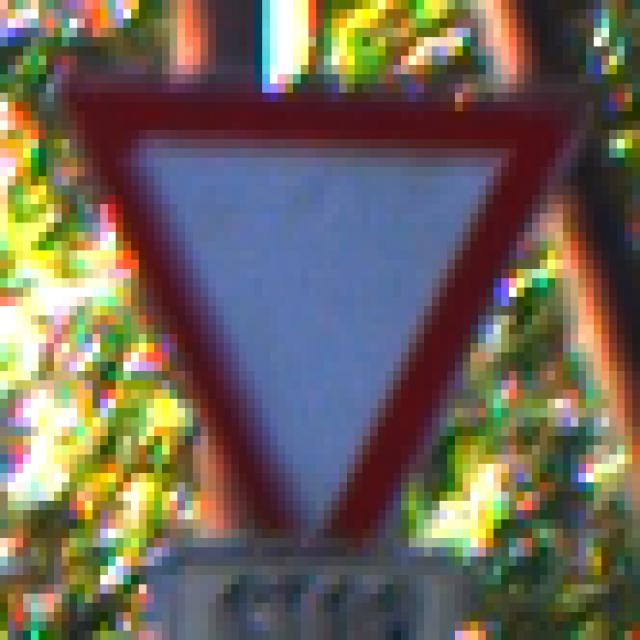Give Way: (55, 57, 587, 585)
